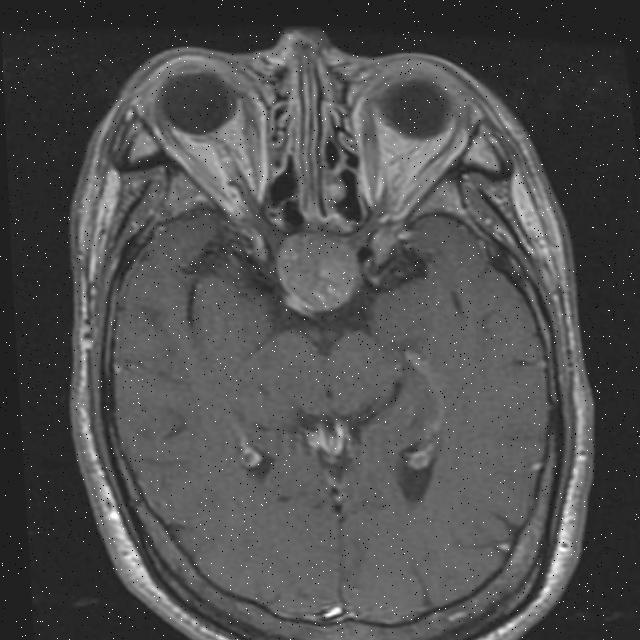Pituitary: (272, 229, 362, 322)
